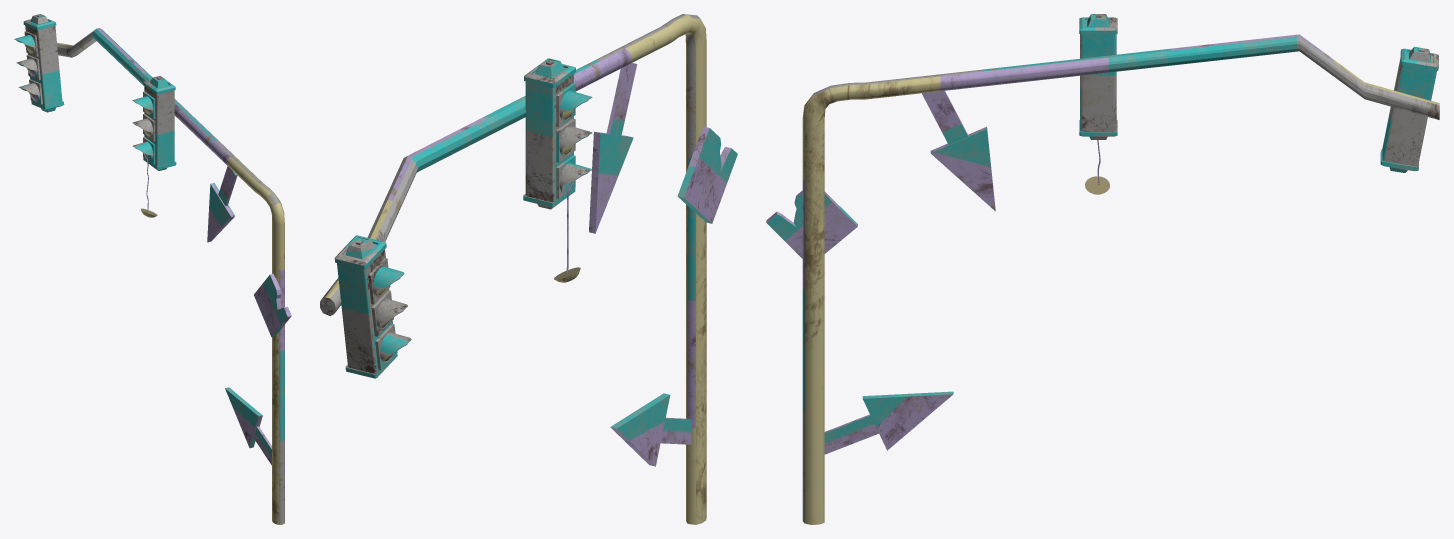
File: long damaged traffic.fbx
3 renders of one model, left to right at view 1: azimuth 30°, elevation 25°; view 2: azimuth 150°, elevation 25°; view 3: azimuth 270°, elevation 25°, orthographic. The views are drawn at different scales.
Visible parts, largest first — view 1: polySurface362, polySurface407, polySurface353, polySurface363, polySurface364, polySurface217, polySurface216, polySurface356, polySurface411; view 2: polySurface362, polySurface353, polySurface407, polySurface363, polySurface364, polySurface217, polySurface216, polySurface411, polySurface356, polySurface402, polySurface404, polySurface409 (+3 smaller); view 3: polySurface362, polySurface364, polySurface407, polySurface353, polySurface217, polySurface363, polySurface216.
Boxes of the visible parts, bbox=[...] form: polySurface362: bbox=[57, 28, 284, 524]; polySurface407: bbox=[25, 25, 62, 106]; polySurface353: bbox=[144, 86, 174, 166]; polySurface363: bbox=[254, 273, 291, 337]; polySurface364: bbox=[225, 387, 271, 465]; polySurface217: bbox=[207, 183, 234, 242]; polySurface216: bbox=[218, 166, 237, 205]; polySurface356: bbox=[143, 75, 175, 94]; polySurface411: bbox=[23, 14, 56, 29]; polySurface362: bbox=[320, 14, 706, 524]; polySurface353: bbox=[525, 74, 573, 202]; polySurface407: bbox=[337, 249, 392, 373]; polySurface363: bbox=[677, 126, 737, 223]; polySurface364: bbox=[610, 393, 691, 466]; polySurface217: bbox=[589, 131, 633, 233]; polySurface216: bbox=[606, 63, 637, 135]; polySurface411: bbox=[334, 235, 386, 269]; polySurface356: bbox=[524, 58, 575, 87]; polySurface402: bbox=[380, 332, 411, 362]; polySurface404: bbox=[376, 299, 407, 329]; polySurface409: bbox=[373, 266, 404, 296]; polySurface362: bbox=[802, 34, 1439, 524]; polySurface364: bbox=[824, 391, 953, 454]; polySurface407: bbox=[1382, 58, 1436, 166]; polySurface353: bbox=[1080, 34, 1116, 131]; polySurface217: bbox=[930, 126, 995, 211]; polySurface363: bbox=[766, 190, 857, 258]; polySurface216: bbox=[922, 90, 968, 144].
Bounding box in the file's own units: 0.764 × 6.17 × 7.57.
